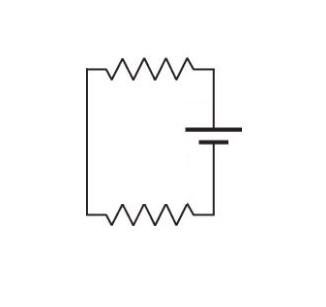resistor: (92, 47, 204, 102), (100, 188, 209, 233)
